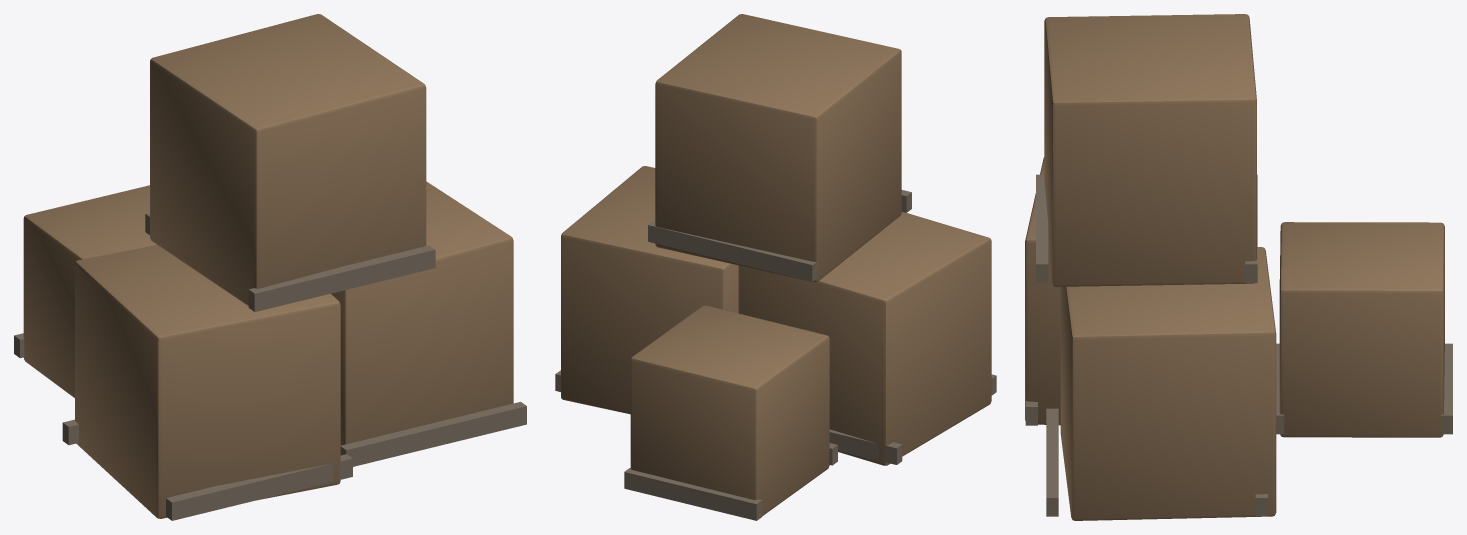
File: ZR_CrateStack.fbx
3 renders of one model, left to right at view 1: azimuth 30°, elevation 25°; view 2: azimuth 150°, elevation 25°; view 3: azimuth 270°, elevation 25°, orthographic. The views are drawn at different scales.
Visible parts, largest first — view 1: ZR_CrateStack; view 2: ZR_CrateStack; view 3: ZR_CrateStack.
Part boxes in pixels (<box>): ZR_CrateStack: <box>14,14,526,520</box>; ZR_CrateStack: <box>555,14,996,520</box>; ZR_CrateStack: <box>1025,14,1452,520</box>.
Size of the model in its own units: 2.11 by 2 by 2.08.
